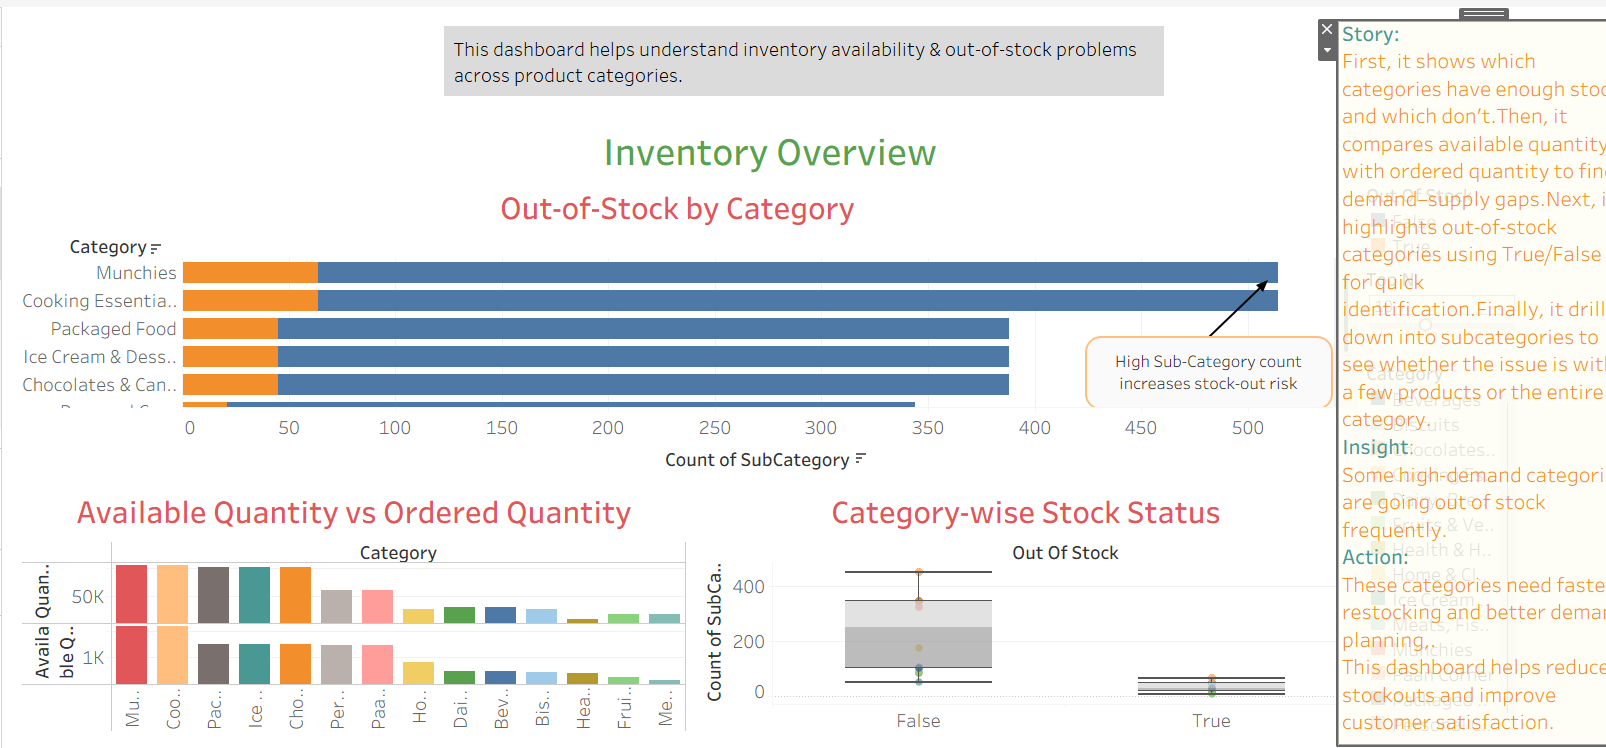

This screenshot's page, from the dashboard's own definition file:
{"tool":"tableau","page":{"name":"Dashboard 1","canvas":[1000,1000],"units":"permille","ordinal":0},"visuals":[{"type":"text","box":[5.3,10.7,989.5,85.7]},{"type":"worksheet","title":"Sheet 2","mark":"Automatic","rows":["Category"],"cols":["name"],"box":[5.3,96.4,884.2,485.5]},{"type":"legend","title":"Sheet 2","param":"[federated.0m5cgn01dddmoq1el1z6h03l7zhx].[none:outOfStock:nk]","box":[889.5,96.4,105.3,112.5]},{"type":"parameter","param":"[Parameters].[Parameter 1]","box":[889.5,208.8,105.3,125.8]},{"type":"worksheet","title":"Sheet 3","mark":"Automatic","rows":["quantity","availableQuantity"],"cols":["Category"],"box":[5.3,581.9,486.9,407.4]},{"type":"worksheet","title":"Sheet 4","mark":"Circle","rows":["name"],"cols":["outOfStock"],"box":[492.1,581.9,397.4,407.4]}]}

Visuals, with their boxes on the dashboard's canvas, which has no fixed pixel size, in thousandths of its width and height (x1, y1, x2, y2). These are canvas units, not pixel positions in the 1606x748 screenshot, which may show the page scaled, cropped or inside an application window:
text: region(5, 11, 995, 96)
"Sheet 2" worksheet: region(5, 96, 890, 582)
"Sheet 2" legend: region(890, 96, 995, 209)
parameter: region(890, 209, 995, 335)
"Sheet 3" worksheet: region(5, 582, 492, 989)
"Sheet 4" worksheet (Circle marks): region(492, 582, 890, 989)
